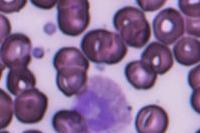N: (68, 74, 132, 133)
